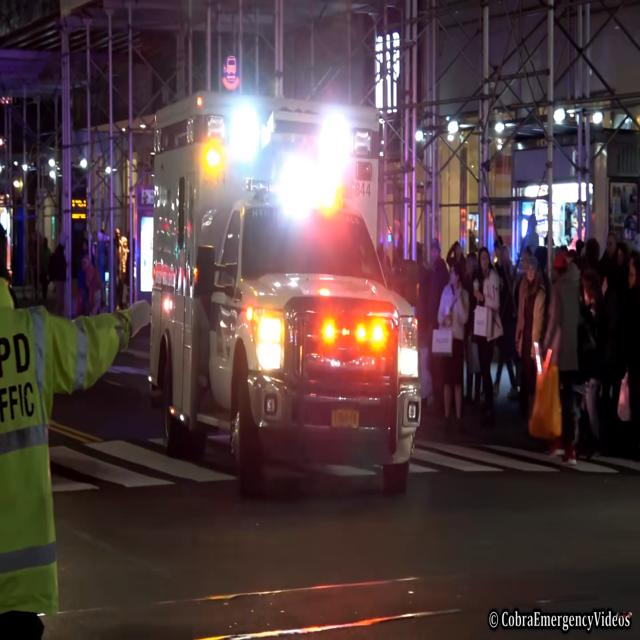emergency-vehicles: (119, 79, 453, 516)
